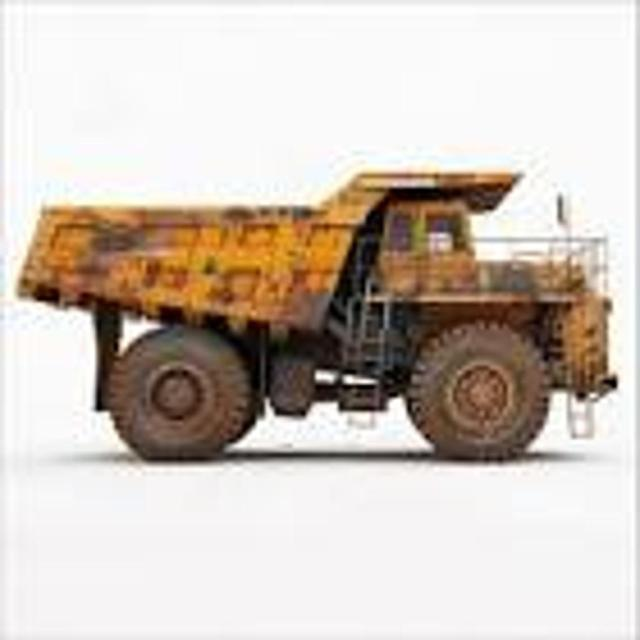dump_truck: (11, 158, 621, 483)
